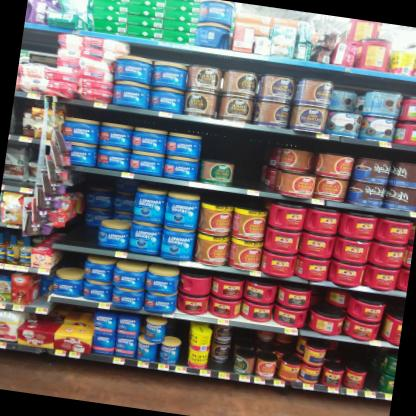empty_space: (235, 128, 284, 193)
